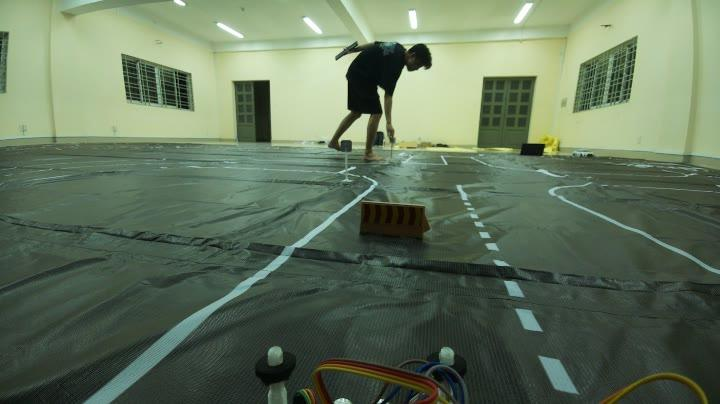roadblock: (354, 192, 437, 250)
